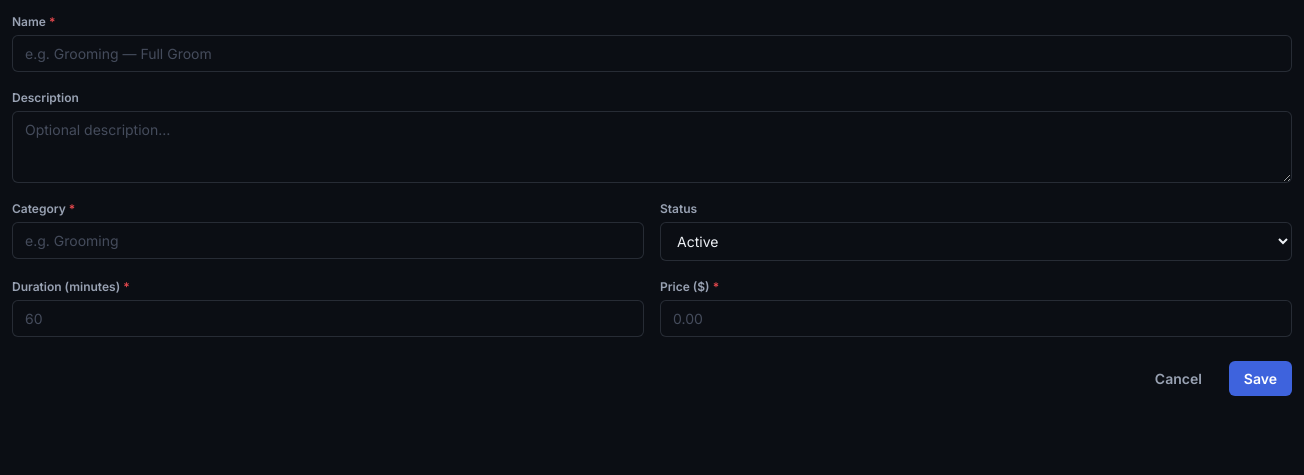
Scenario: ServiceForm › validates required fields on submit
This screenshot has width=1304, height=475.
Click the button "Save".
click(1260, 378)  # box top-left (1229, 360), bottom-right (1292, 396)
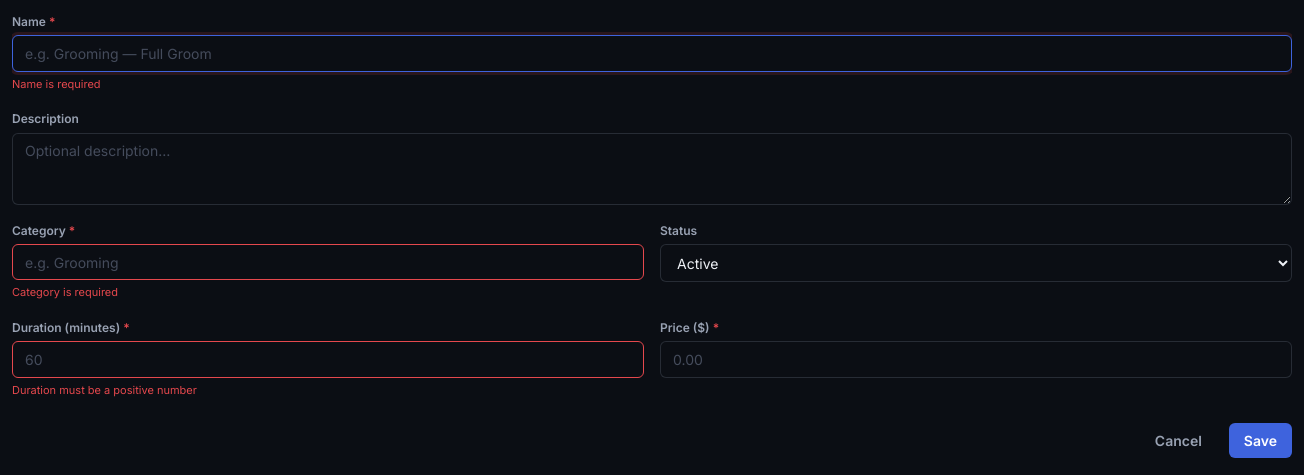
Check: the text "Name is required" is shown, box top-left (12, 77), bottom-right (101, 91)
Check: the text "Category is required" is shown, box top-left (12, 285), bottom-right (118, 299)
